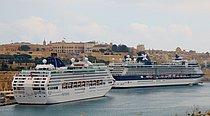Ship: (10, 56, 120, 108), (104, 50, 206, 91)
